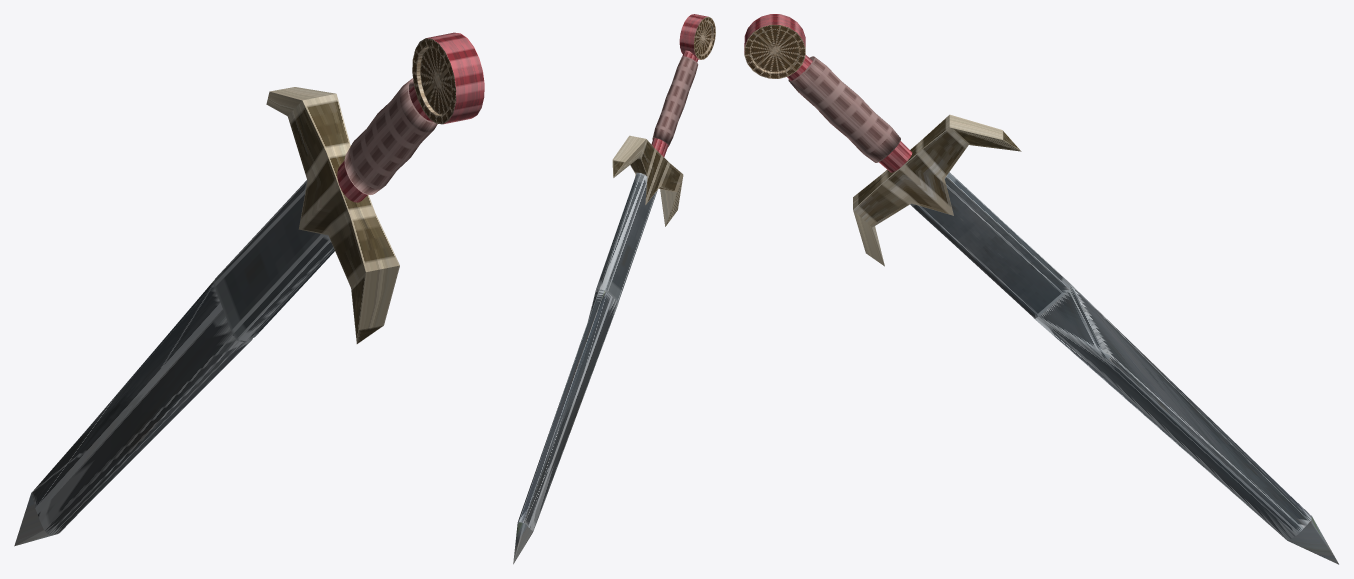
Rendered from mack_Sword.fbx.
3 renders of one model, left to right at view 1: azimuth 30°, elevation 25°; view 2: azimuth 150°, elevation 25°; view 3: azimuth 270°, elevation 25°, orthographic. The views are drawn at different scales.
Parts seen in each view (by area): view 1: polySurface1; view 2: polySurface1; view 3: polySurface1.
Boxes of the visible parts, left/top/right/bottom form: polySurface1: left=14, top=32, right=484, bottom=546; polySurface1: left=513, top=14, right=715, bottom=564; polySurface1: left=744, top=14, right=1338, bottom=564.
Bounding box in the file's own units: 1.06 × 14.95 × 14.45.
